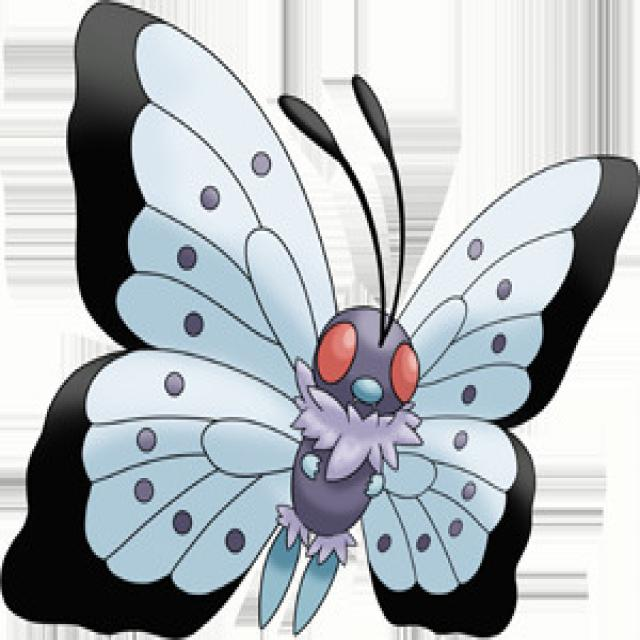Butterfree: (200, 218, 485, 634)
